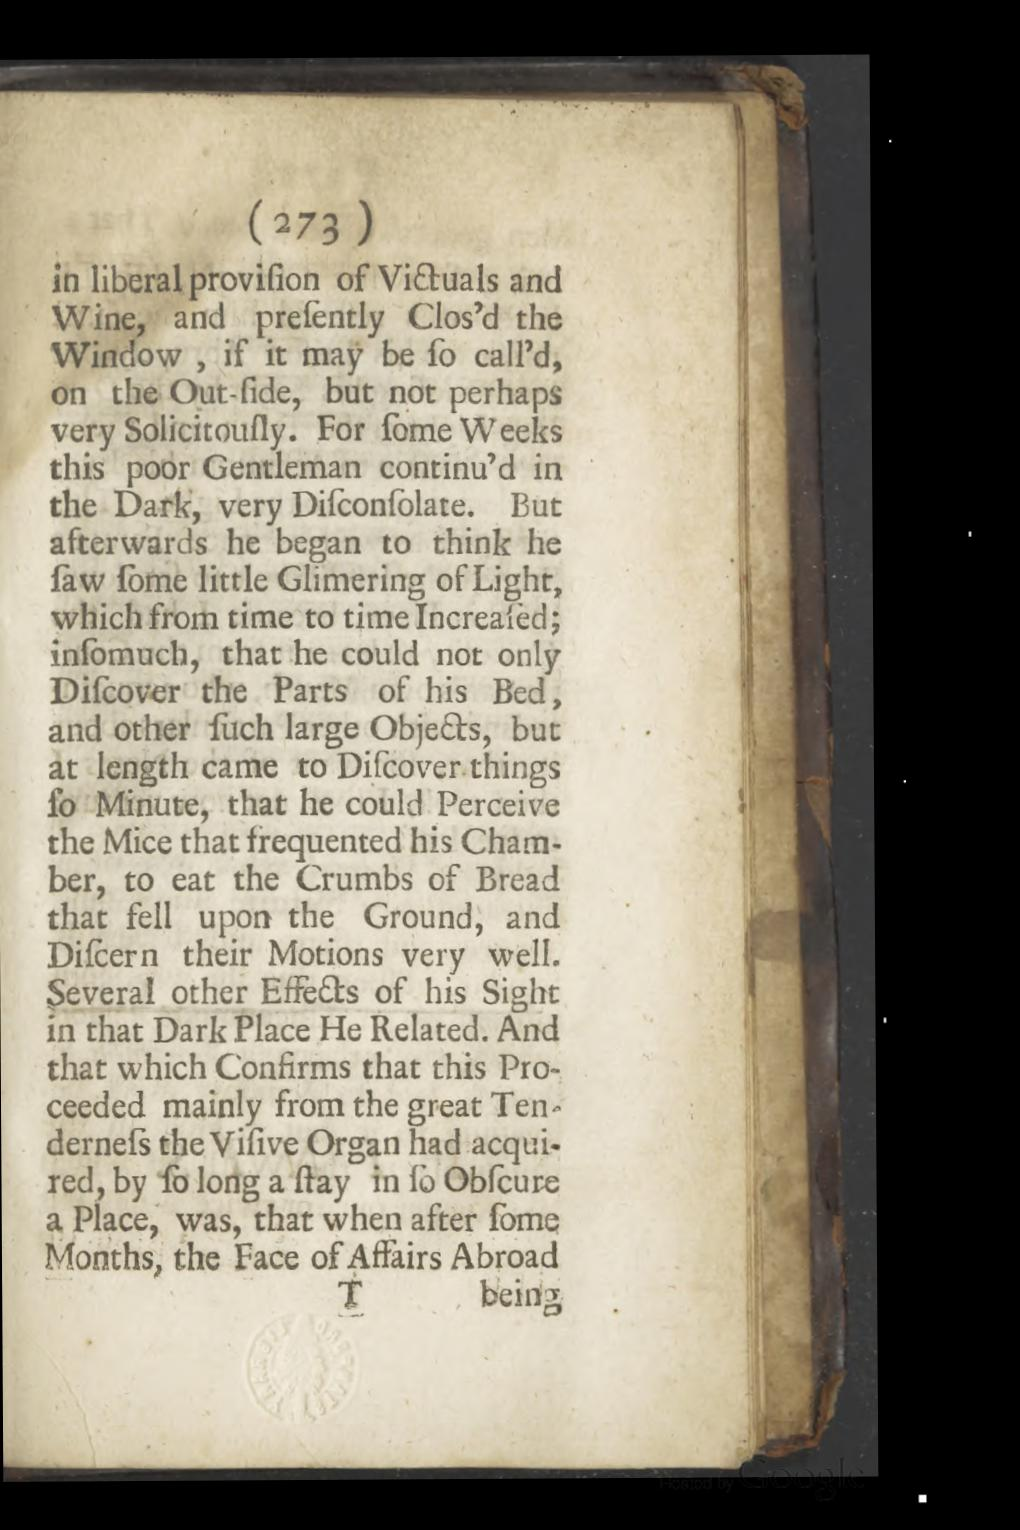catchword: (476, 1272, 566, 1316)
page_num: (270, 204, 342, 250)
signature: (332, 1274, 372, 1314)
top_p: (44, 256, 566, 1272)
